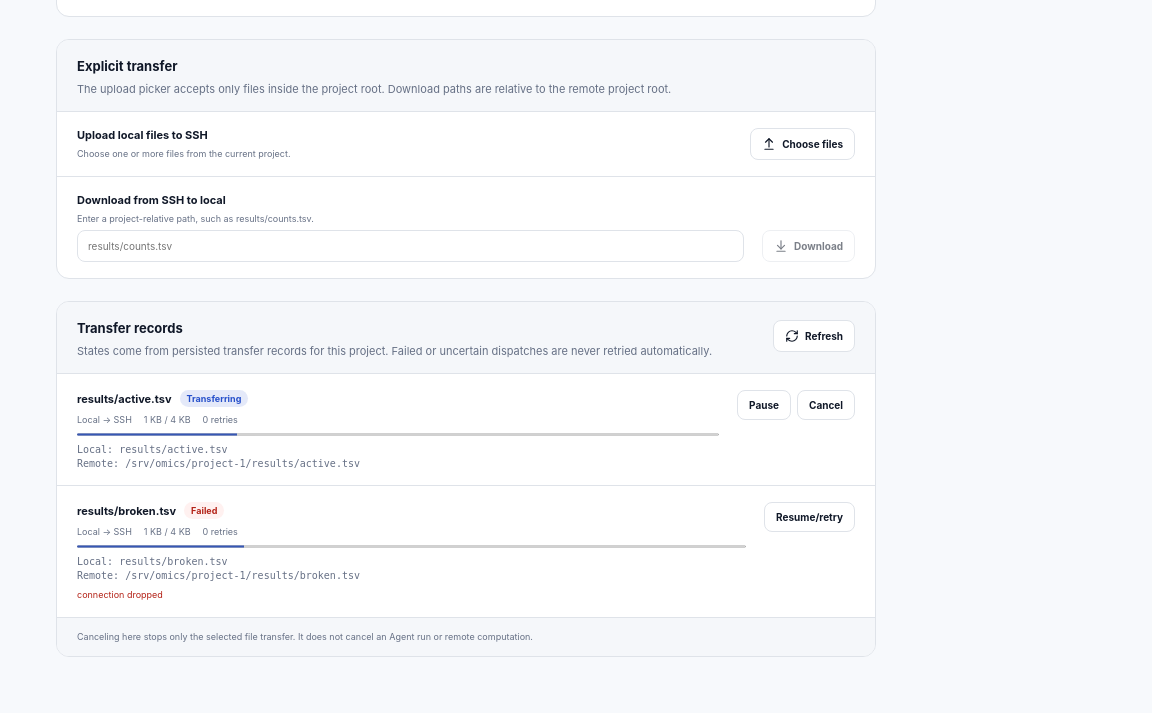
Test: RemoteAccessSettings › keeps records visible after pause, cancel, and retry failures and prevents duplicate retry
(page scrolled)
Click the button with aria-label "Pause results/active.tsv": click(764, 405) top-left (737, 390), bottom-right (791, 420)
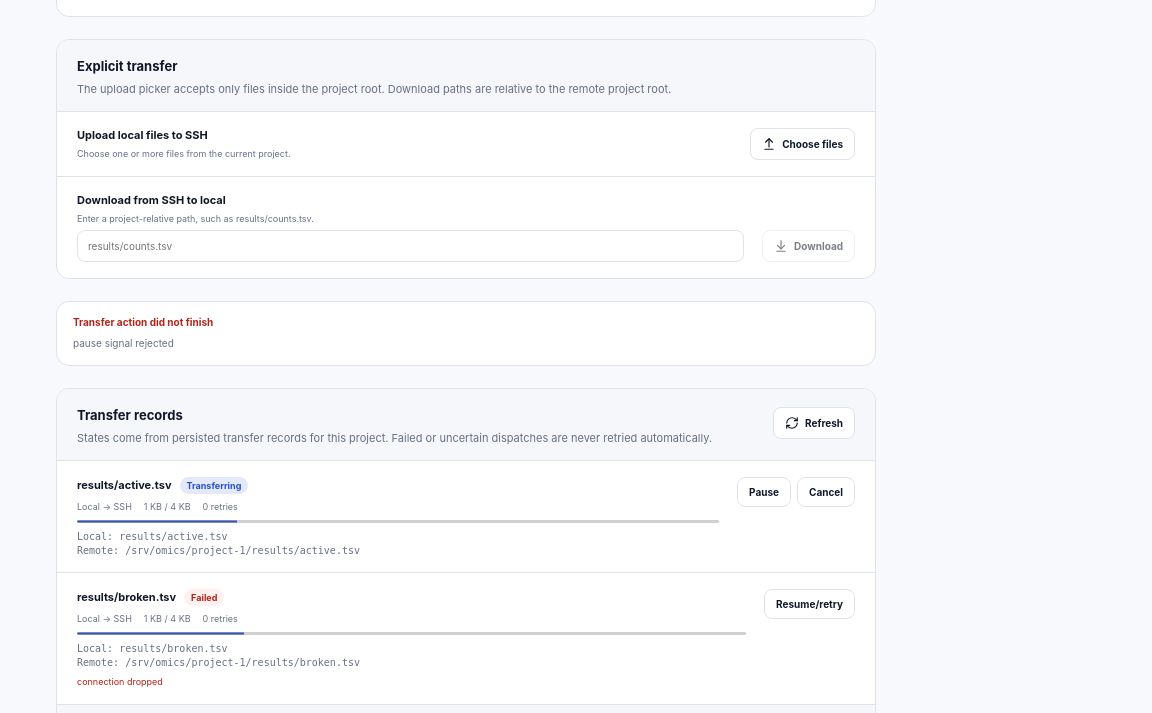
Expected: the text "results/active.tsv" is shown, top-left (77, 478), bottom-right (172, 492)
Expected: the message shows "pause signal rejected", top-left (73, 337), bottom-right (174, 349)
Click the button with aria-label "Cancel results/active.tsv": click(826, 492) top-left (797, 477), bottom-right (855, 507)
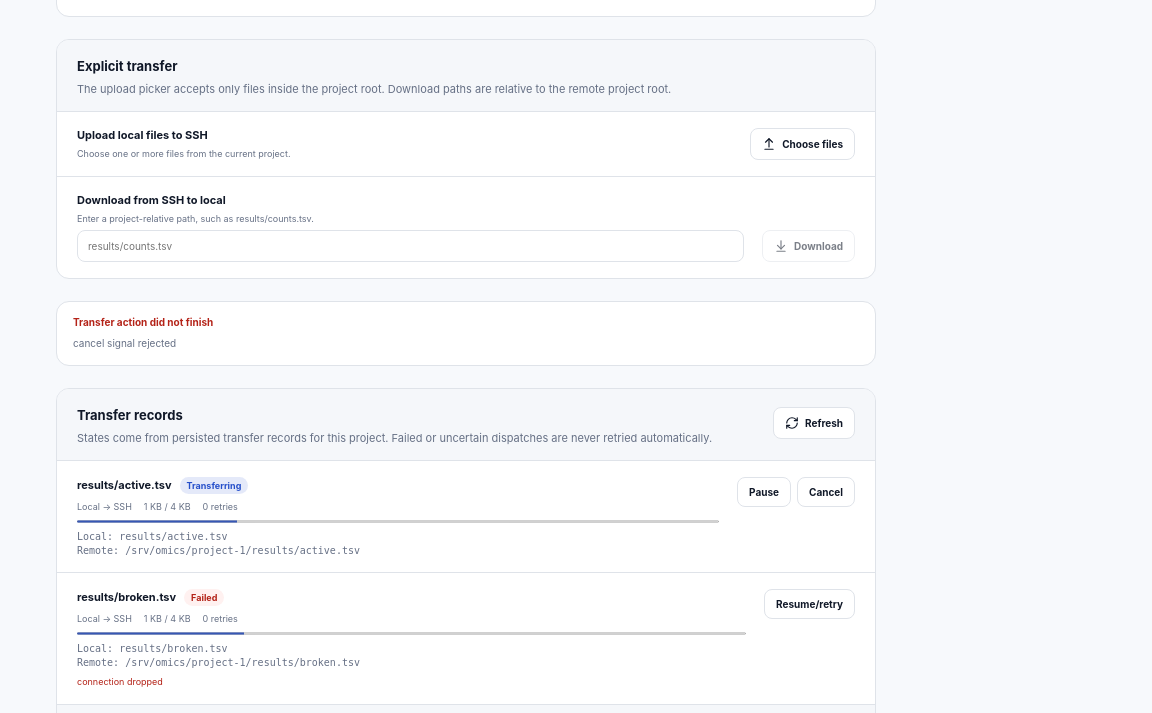
Expected: the text "results/active.tsv" is shown, top-left (77, 478), bottom-right (172, 492)
Expected: the message shows "cancel signal rejected", top-left (73, 337), bottom-right (176, 349)
Click the button with aria-label "Retry results/broken.tsv": click(810, 604) top-left (764, 589), bottom-right (855, 619)
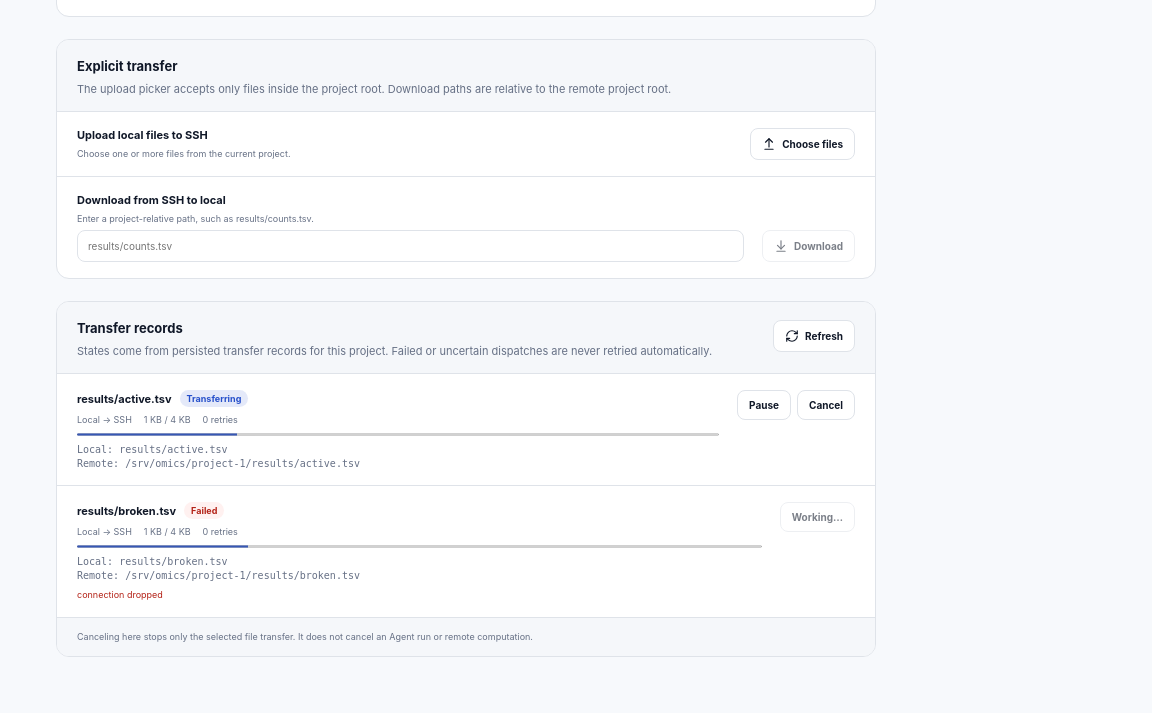
Click the button with aria-label "Retry results/broken.tsv": click(817, 517) top-left (780, 502), bottom-right (855, 532)
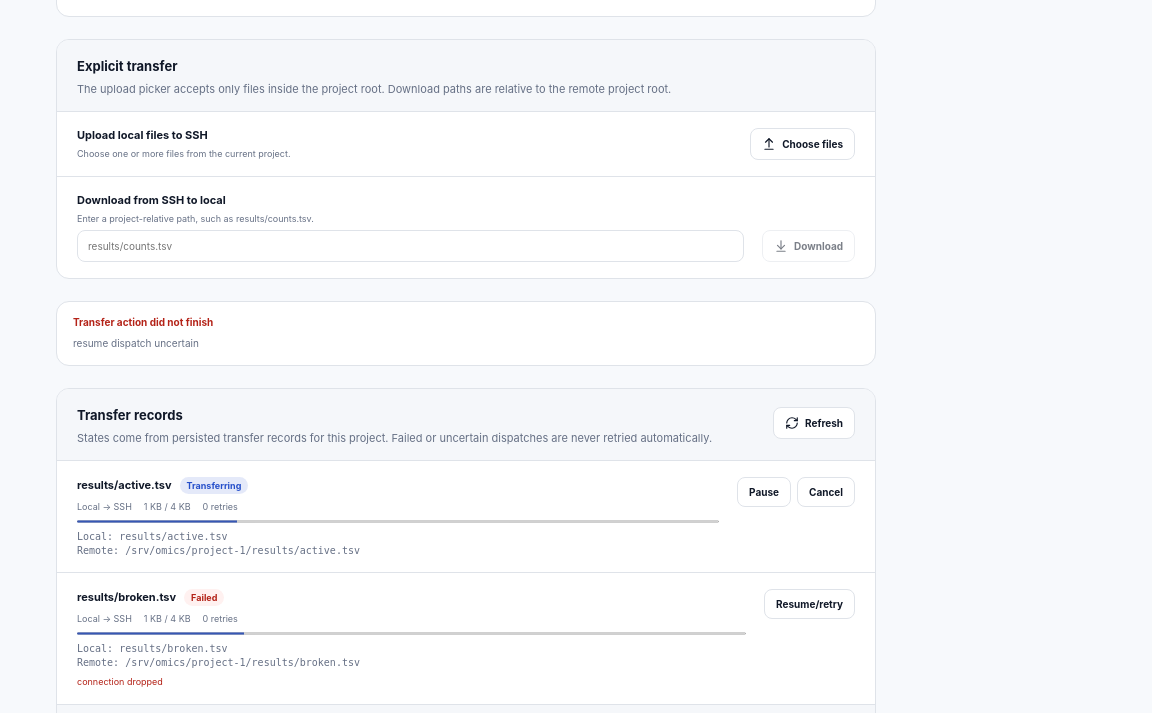
Expected: the text "results/broken.tsv" is shown, top-left (77, 590), bottom-right (176, 604)
Expected: the message shows "resume dispatch uncertain", top-left (73, 337), bottom-right (199, 349)
Expected: the button with aria-label "Retry results/broken.tsv" is enabled, top-left (764, 589), bottom-right (855, 619)
